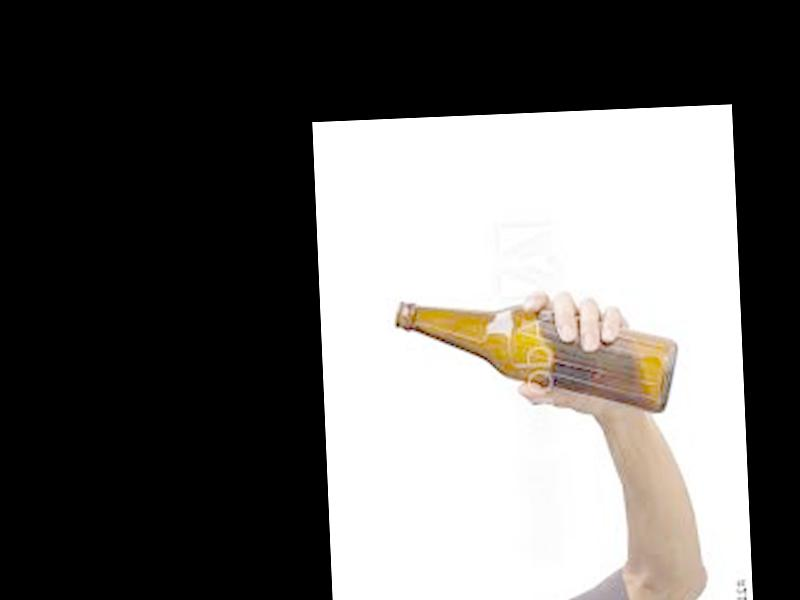Beer: (393, 287, 680, 424)
